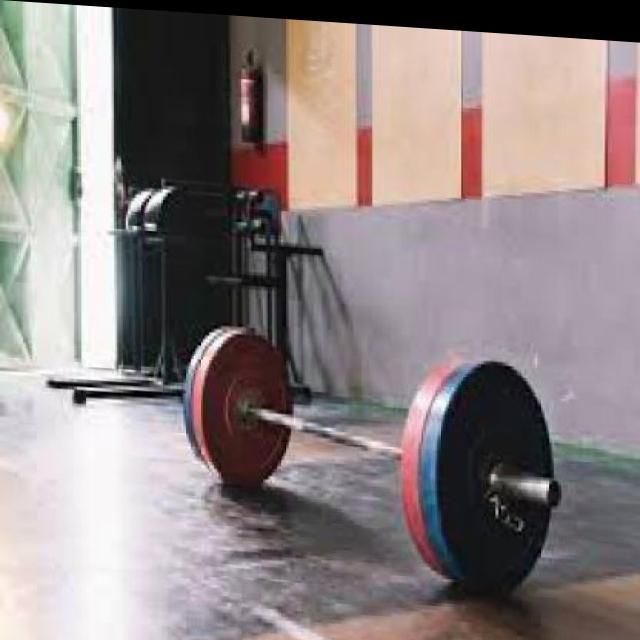barbell: (428, 345, 564, 598)
